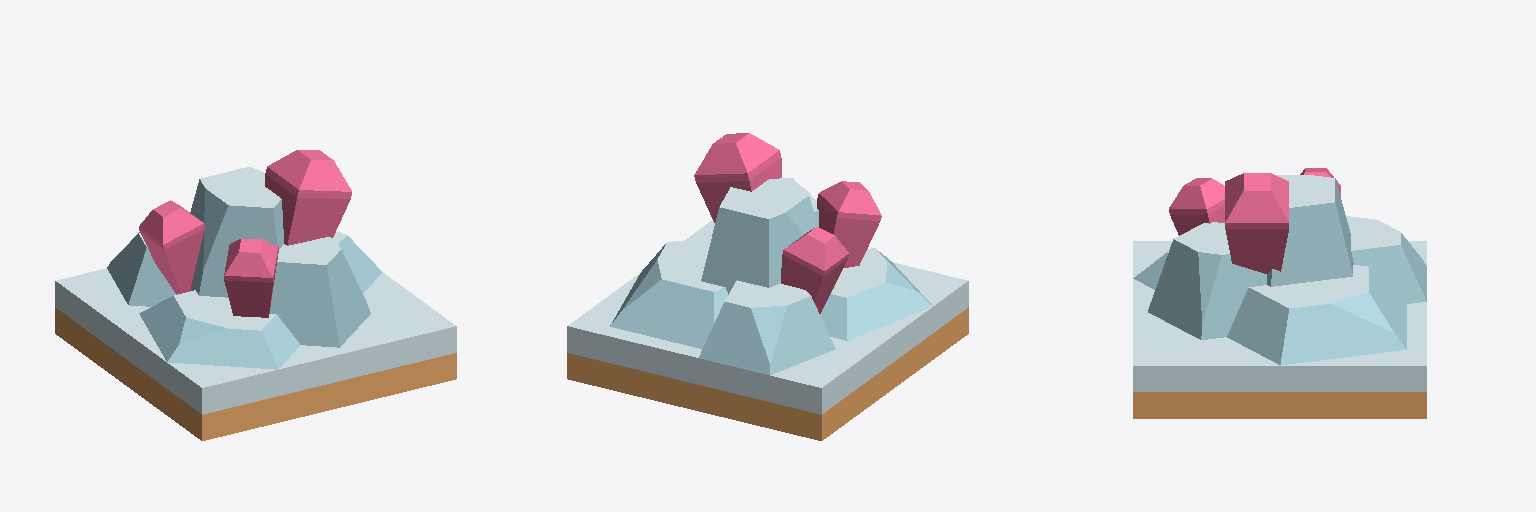
The model's file is snow_tile_crystal.obj.
The picture shows the model from 3 angles: view 1: azimuth 30°, elevation 25°; view 2: azimuth 150°, elevation 25°; view 3: azimuth 270°, elevation 25°; orthographic projection.
Parts seen in each view (by area): view 1: snow_tile_crystal, rocks, crystal; view 2: rocks, snow_tile_crystal, crystal; view 3: rocks, snow_tile_crystal, crystal.
Boxes of the visible parts, box(x1,y1,x2,y2) form: snow_tile_crystal: box(55, 268, 456, 440); rocks: box(107, 167, 382, 369); crystal: box(139, 150, 351, 317); rocks: box(610, 178, 932, 375); snow_tile_crystal: box(567, 220, 968, 440); crystal: box(694, 133, 881, 313); rocks: box(1133, 175, 1426, 364); snow_tile_crystal: box(1133, 241, 1426, 418); crystal: box(1169, 168, 1340, 273).
Size of the model in its own units: 1 by 0.7565 by 1.